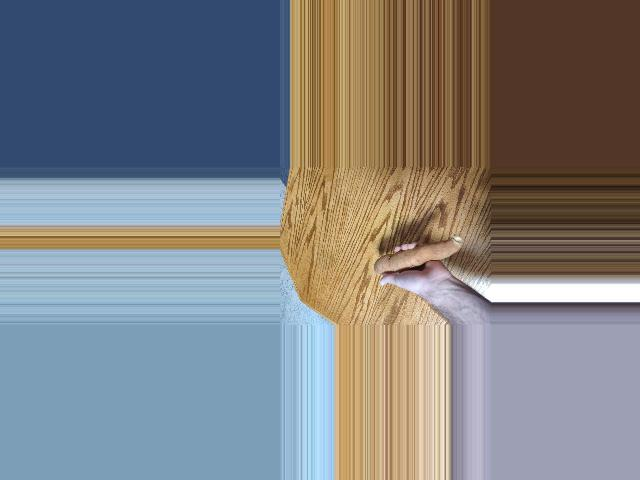sweet_potato: (372, 250, 462, 273)
